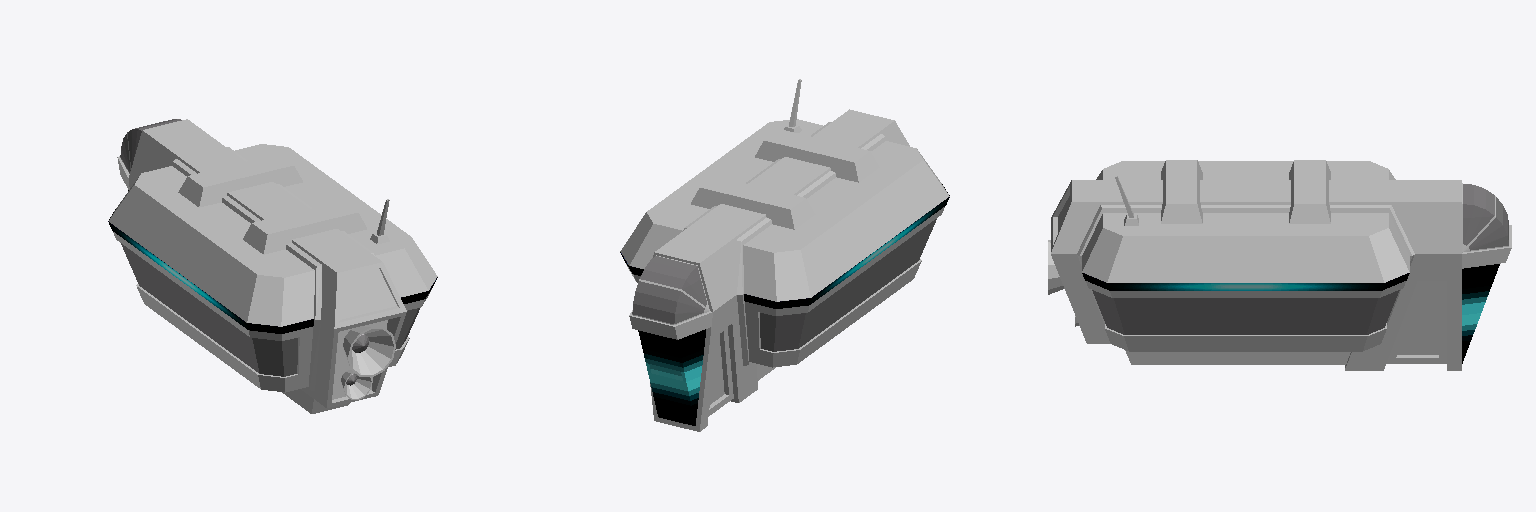
3 views of the same model, side by side, from view 1: azimuth 30°, elevation 25°; view 2: azimuth 150°, elevation 25°; view 3: azimuth 270°, elevation 25° (orthographic).
Visible parts, largest first — view 1: common_car_b; view 2: common_car_b; view 3: common_car_b.
Part boxes in pixels (left/top/right/bottom): common_car_b: left=108, top=119, right=437, bottom=413; common_car_b: left=620, top=79, right=949, bottom=431; common_car_b: left=1048, top=160, right=1511, bottom=370.
Bounding box in the file's own units: 2.11 × 2.19 × 4.43.
Materials: 17 (5 with a texture image).